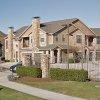Chimney: (27, 12, 50, 50)
